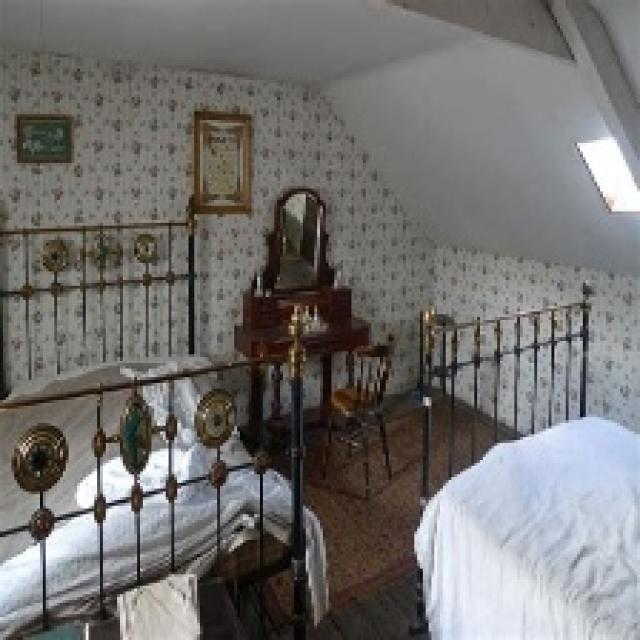chair: (313, 331, 395, 498)
